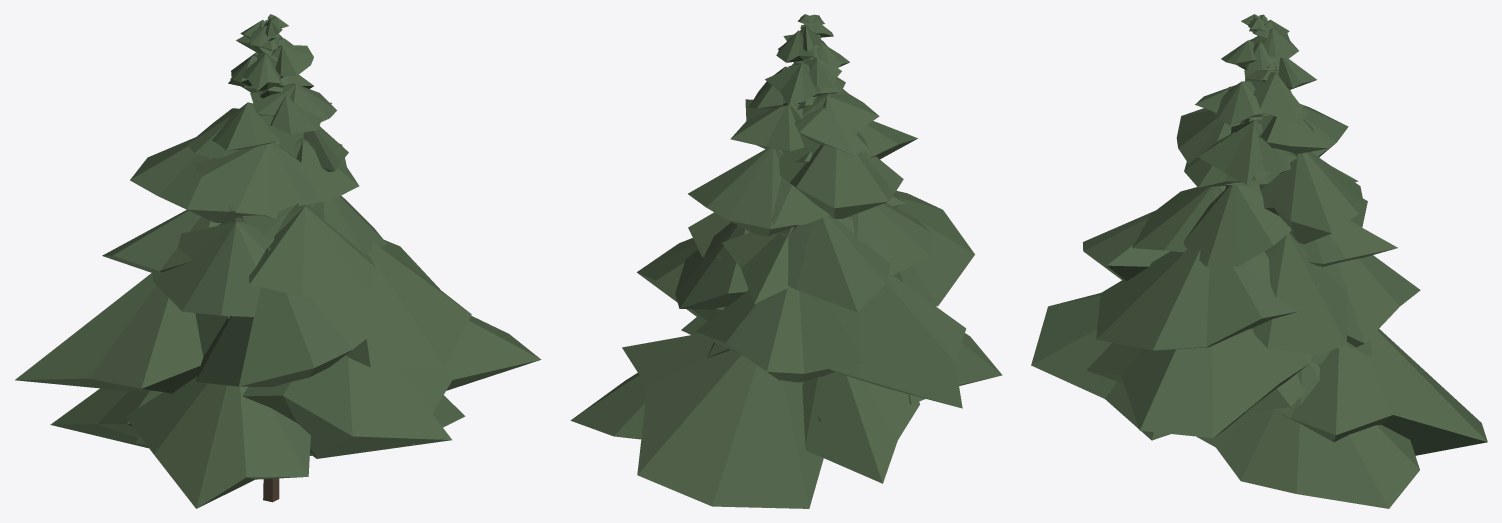
3 views of the same model, side by side, from view 1: azimuth 30°, elevation 25°; view 2: azimuth 150°, elevation 25°; view 3: azimuth 270°, elevation 25° (orthographic). The views are drawn at different scales.
Parts seen in each view (by area): view 1: spruce; view 2: spruce; view 3: spruce.
Boxes of the visible parts, x1,y1,x2,y2 form: spruce: (15, 14, 541, 508); spruce: (570, 14, 1002, 508); spruce: (1031, 14, 1487, 508).
Bounding box in the file's own units: 18.18 × 19.75 × 18.16.
